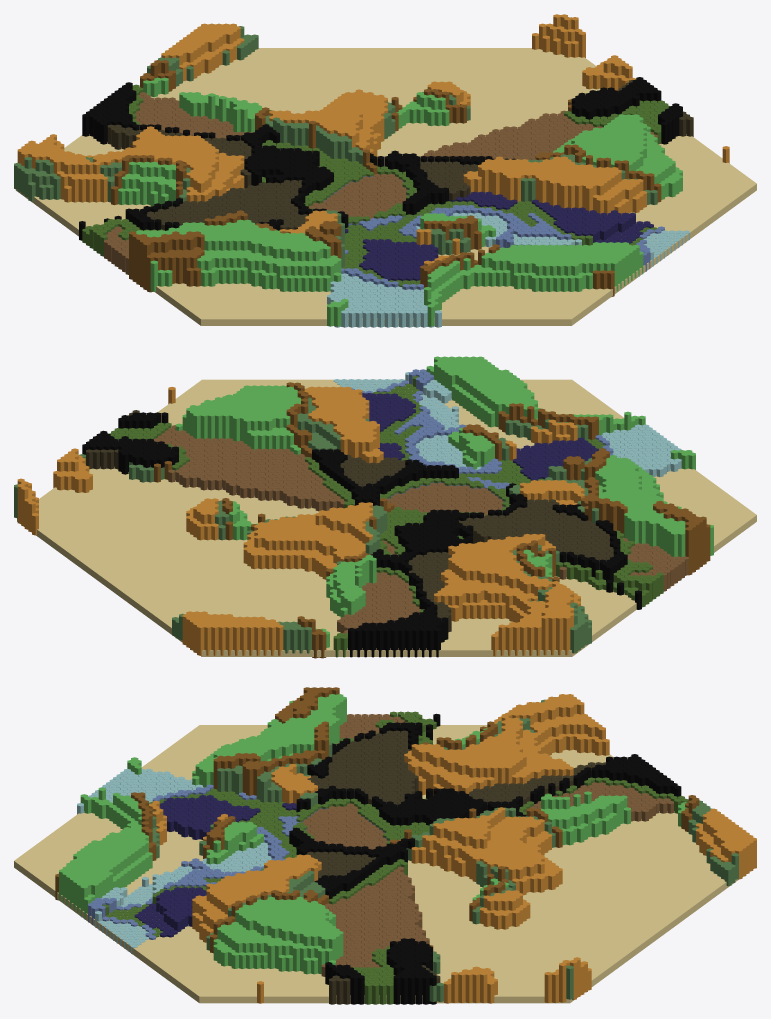
Rendered from 0008_tile_1011210.fbx.
3 views of the same model, one above another, from view 1: azimuth 30°, elevation 25°; view 2: azimuth 150°, elevation 25°; view 3: azimuth 270°, elevation 25° (orthographic).
Parts seen in each view (by area): view 1: Plane; view 2: Plane; view 3: Plane.
Boxes of the visible parts, <box> form: Plane: <box>14,14,756,327</box>; Plane: <box>14,356,756,658</box>; Plane: <box>14,687,756,1004</box>.
Bounding box in the file's own units: 1008 × 76.96 × 1152.
